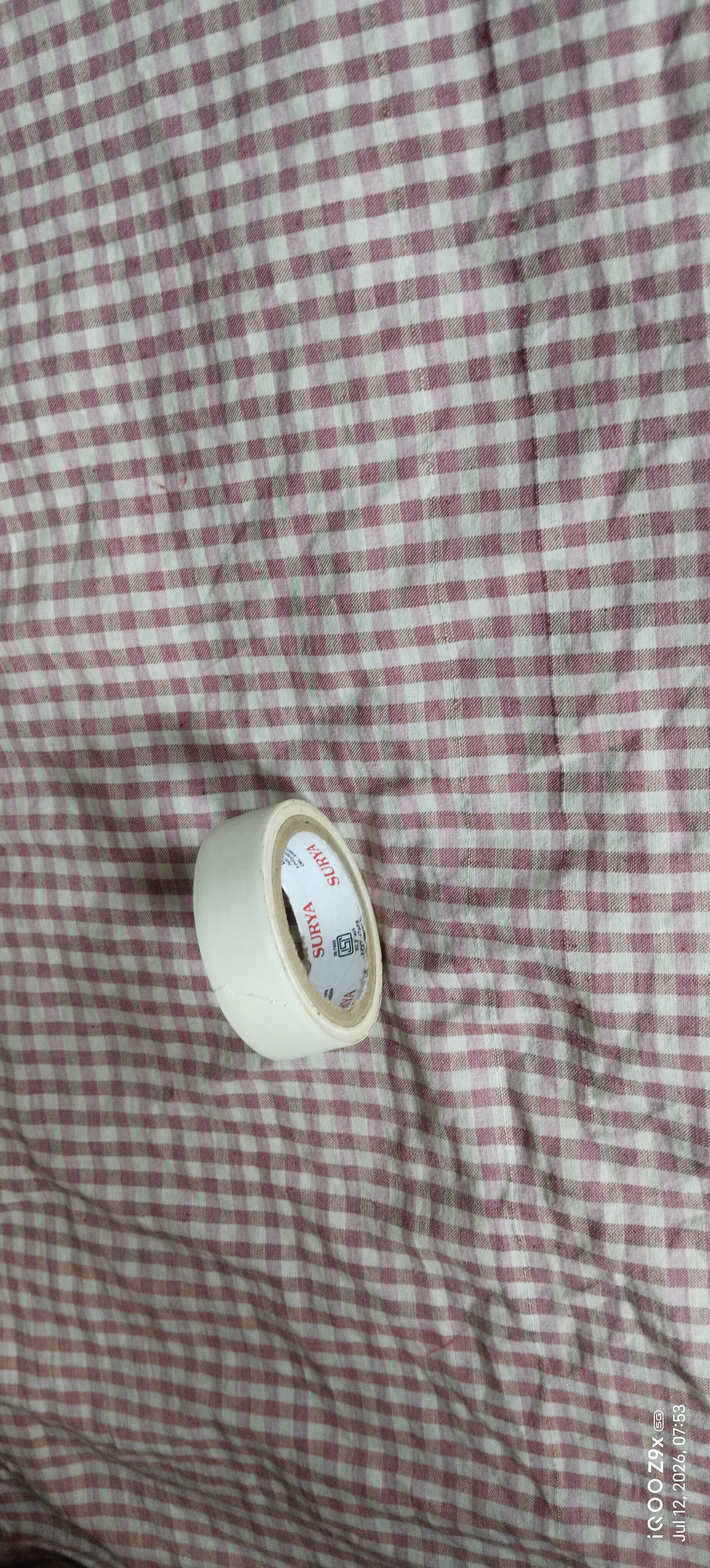tape_roll: (171, 785, 435, 1075)
